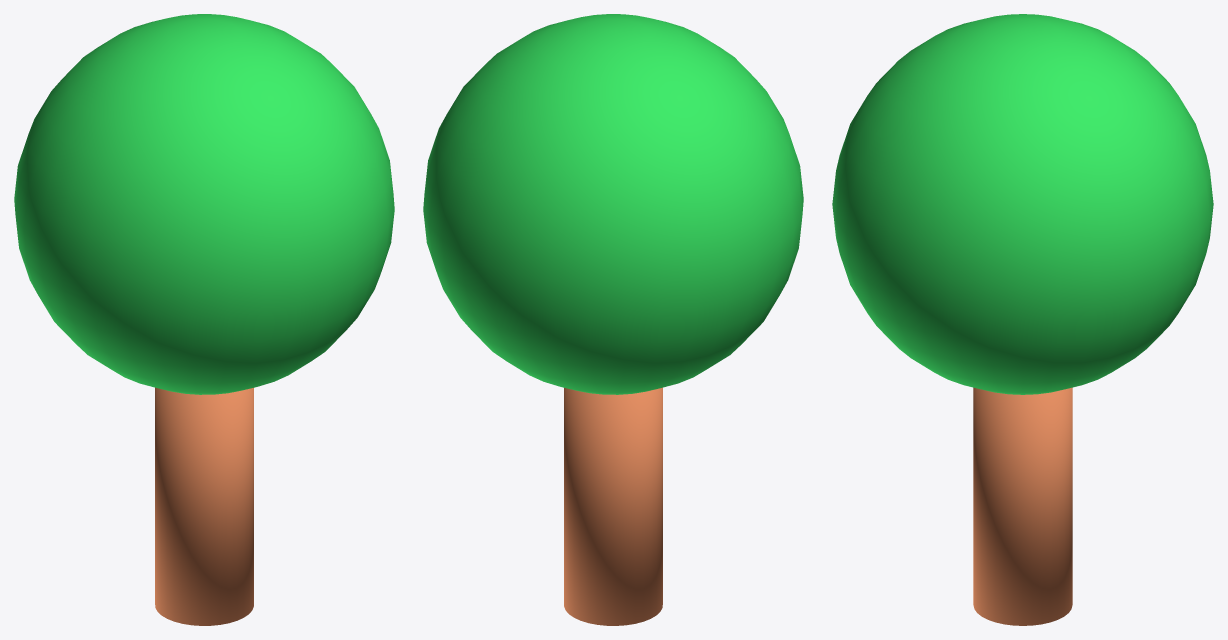
The model's file is PROP_tree 4.fbx.
The picture shows the model from 3 angles, left to right: view 1: azimuth 30°, elevation 25°; view 2: azimuth 150°, elevation 25°; view 3: azimuth 270°, elevation 25°; orthographic projection.
Visible parts, largest first — view 1: Cylinder.001; view 2: Cylinder.001; view 3: Cylinder.001.
Part boxes in pixels (left/top/right/bottom): Cylinder.001: left=14, top=14, right=394, bottom=625; Cylinder.001: left=423, top=14, right=803, bottom=625; Cylinder.001: left=832, top=14, right=1213, bottom=625.
Size of the model in its own units: 291 by 483 by 291.
